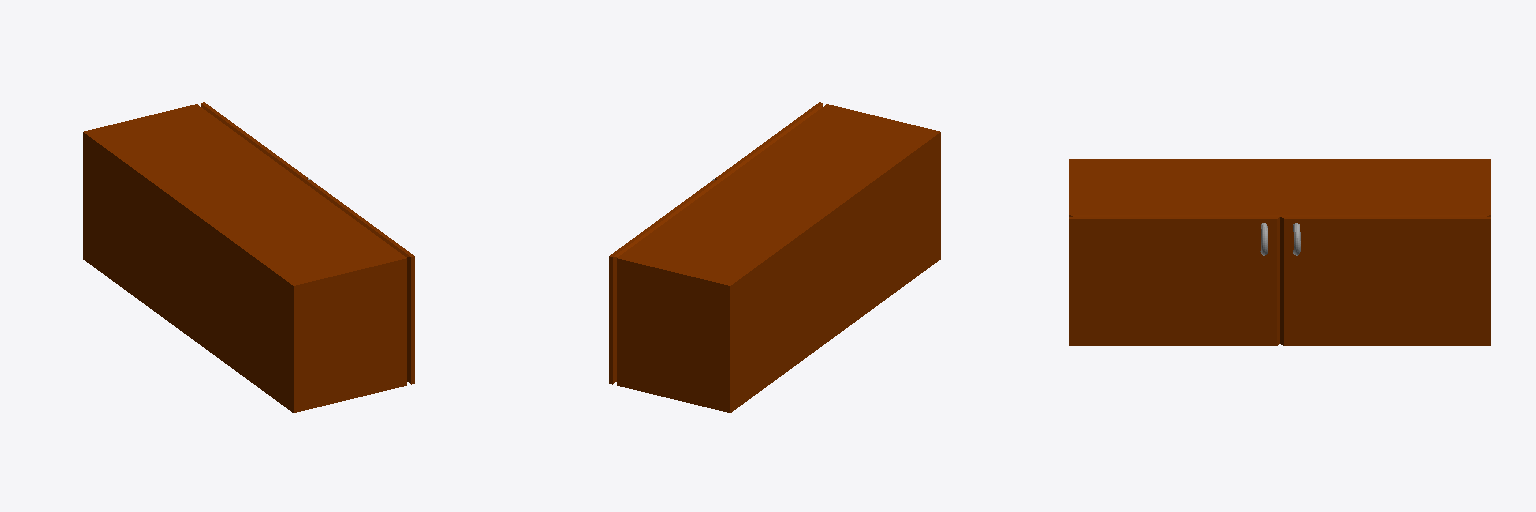
The model's file is Cubboard.obj.
3 renders of one model, left to right at view 1: azimuth 30°, elevation 25°; view 2: azimuth 150°, elevation 25°; view 3: azimuth 270°, elevation 25°, orthographic.
Visible parts, largest first — view 1: Cube; view 2: Cube; view 3: Cube.
Part boxes in pixels (bbox=[...]): Cube: bbox=[83, 102, 414, 412]; Cube: bbox=[609, 102, 940, 412]; Cube: bbox=[1069, 159, 1490, 345].
Size of the model in its own units: 2.23 by 2 by 6.